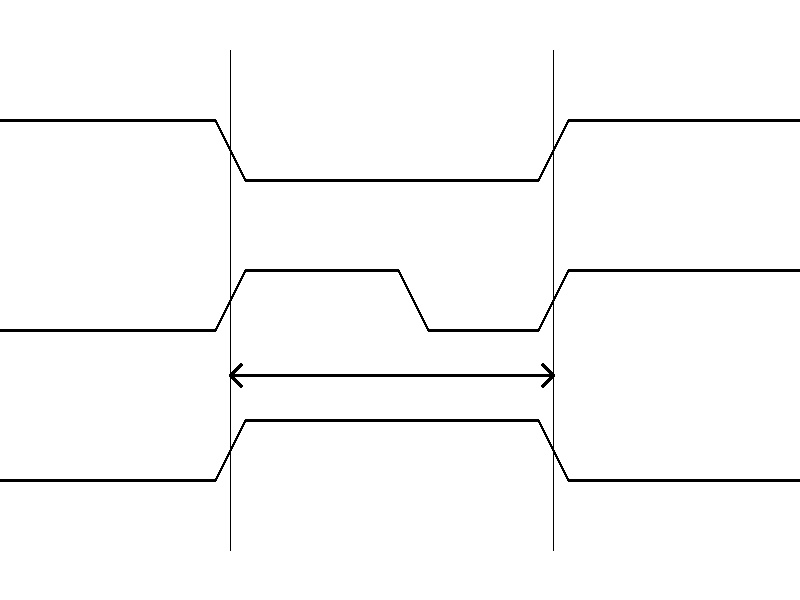double_arrow: (230, 360, 553, 390)
